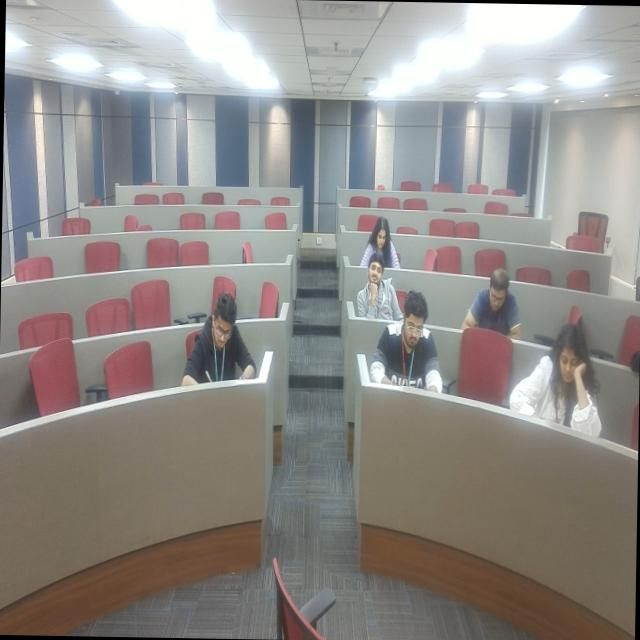non-cheating: (184, 307, 254, 406), (514, 340, 588, 426), (454, 262, 526, 342), (382, 282, 436, 384)
